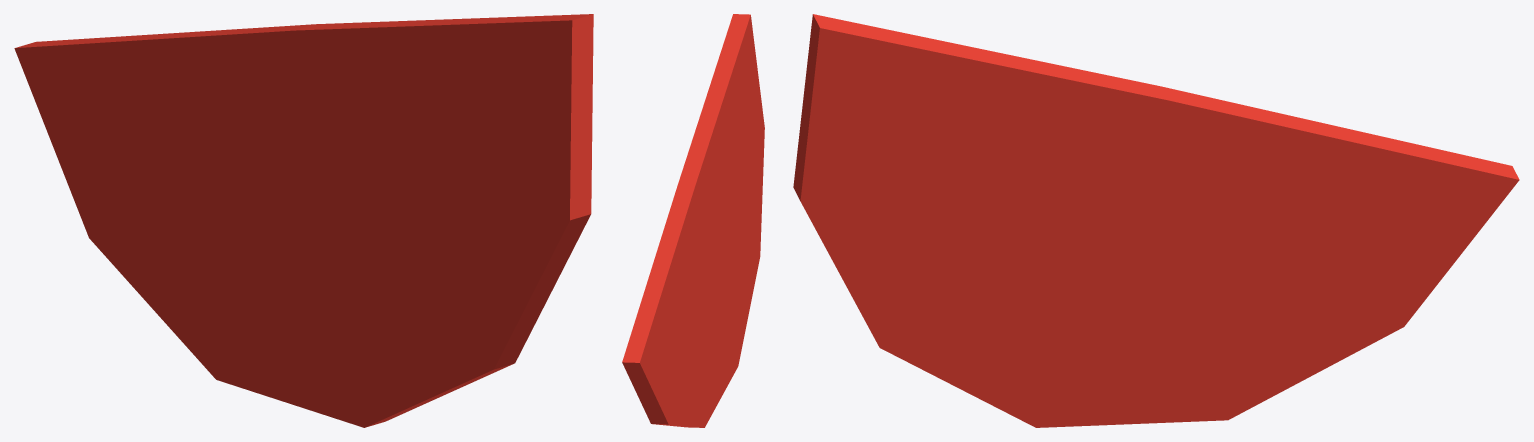
Rendered from n5_group673815775_lev5.glb.
3 renders of one model, left to right at view 1: azimuth 30°, elevation 25°; view 2: azimuth 150°, elevation 25°; view 3: azimuth 270°, elevation 25°, orthographic. The views are drawn at different scales.
Parts seen in each view (by area): view 1: n5_group673815775_lev5; view 2: n5_group673815775_lev5; view 3: n5_group673815775_lev5.
Boxes of the visible parts, box(x1,y1,x2,y2) form: n5_group673815775_lev5: box(14, 14, 593, 427); n5_group673815775_lev5: box(622, 14, 764, 427); n5_group673815775_lev5: box(793, 14, 1519, 427).
Size of the model in its own units: 0.3795 by 0.825 by 1.18.
